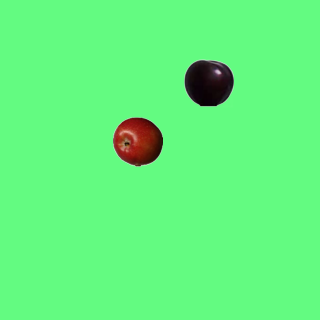Apple Braeburn: (112, 116, 162, 166)
Cherry Wax Black: (183, 57, 233, 107)
